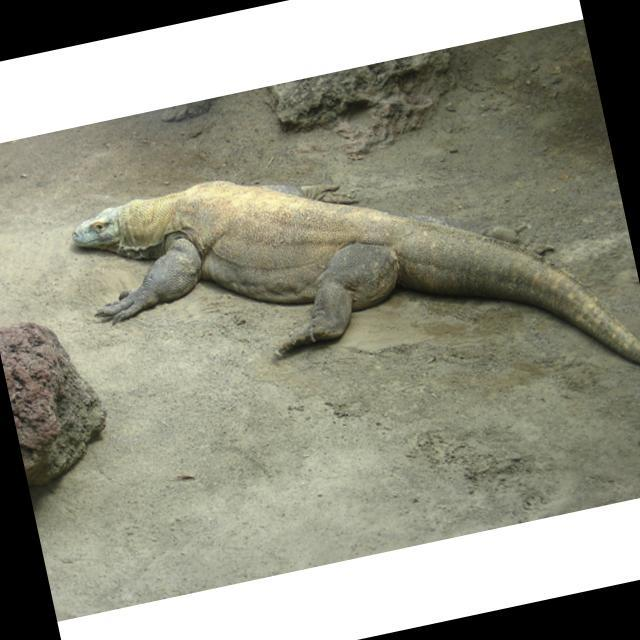KomodoDragon: (62, 95, 640, 490)
